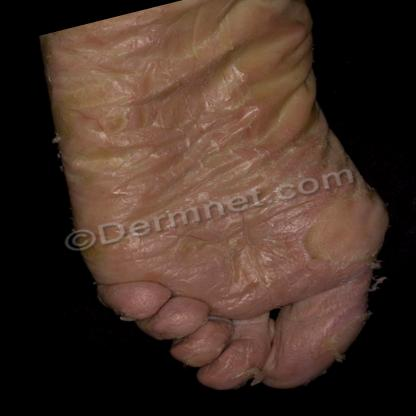Eczema: (176, 48, 302, 150), (57, 121, 188, 219), (76, 190, 194, 284), (182, 130, 293, 222), (45, 10, 168, 91), (64, 62, 178, 141), (161, 0, 278, 75), (288, 184, 386, 268), (194, 203, 296, 276), (274, 121, 356, 202), (226, 256, 309, 320), (164, 252, 237, 322), (309, 253, 373, 305), (312, 296, 370, 350), (257, 0, 309, 58), (285, 48, 322, 126), (102, 268, 166, 312), (278, 308, 324, 364), (235, 310, 280, 354), (209, 352, 258, 388), (148, 304, 200, 336), (184, 329, 226, 366), (286, 357, 326, 384), (132, 304, 162, 318)
